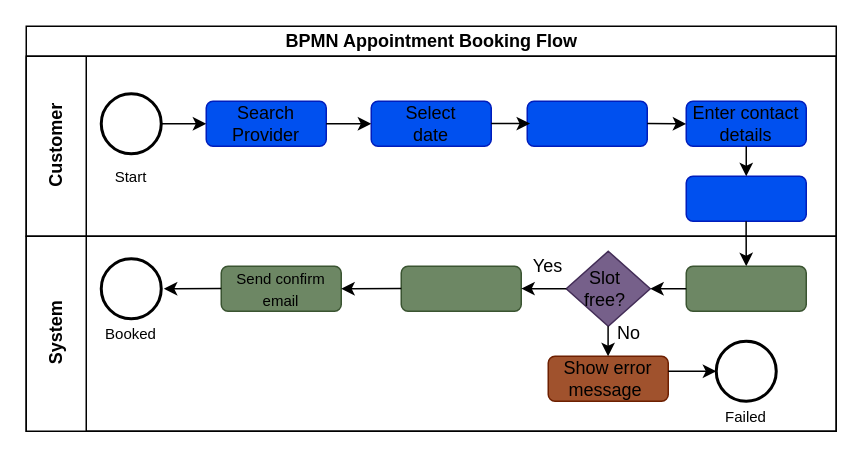
The diagram is 863 pixels wide and 458 high, and some of its shapes have lost their labels. The centre of each missing label's shape, as x and y in pixels:
"Check slot availability" belongs at (745,288).
"Choose available slot" belongs at (586,123).
"Confirm Booking" belongs at (745,198).
"Lock slot & create booking" belongs at (460,288).
